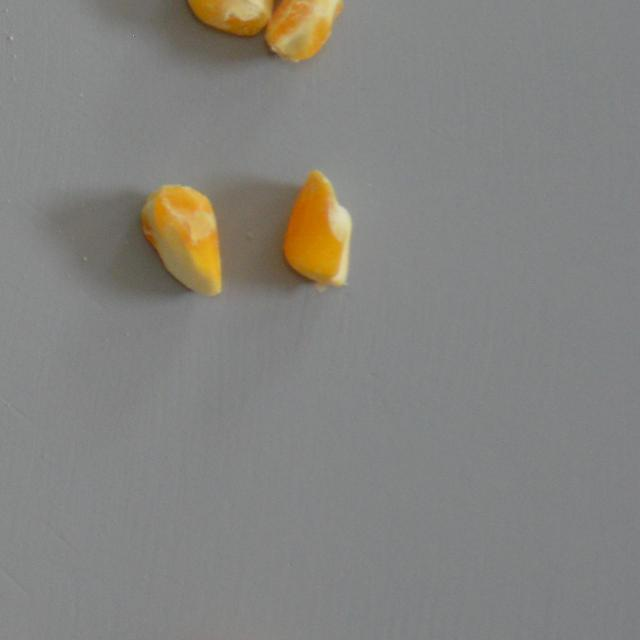estandar: (282, 168, 351, 291)
pelicula: (138, 181, 225, 298), (260, 0, 346, 62), (180, 0, 296, 34)
